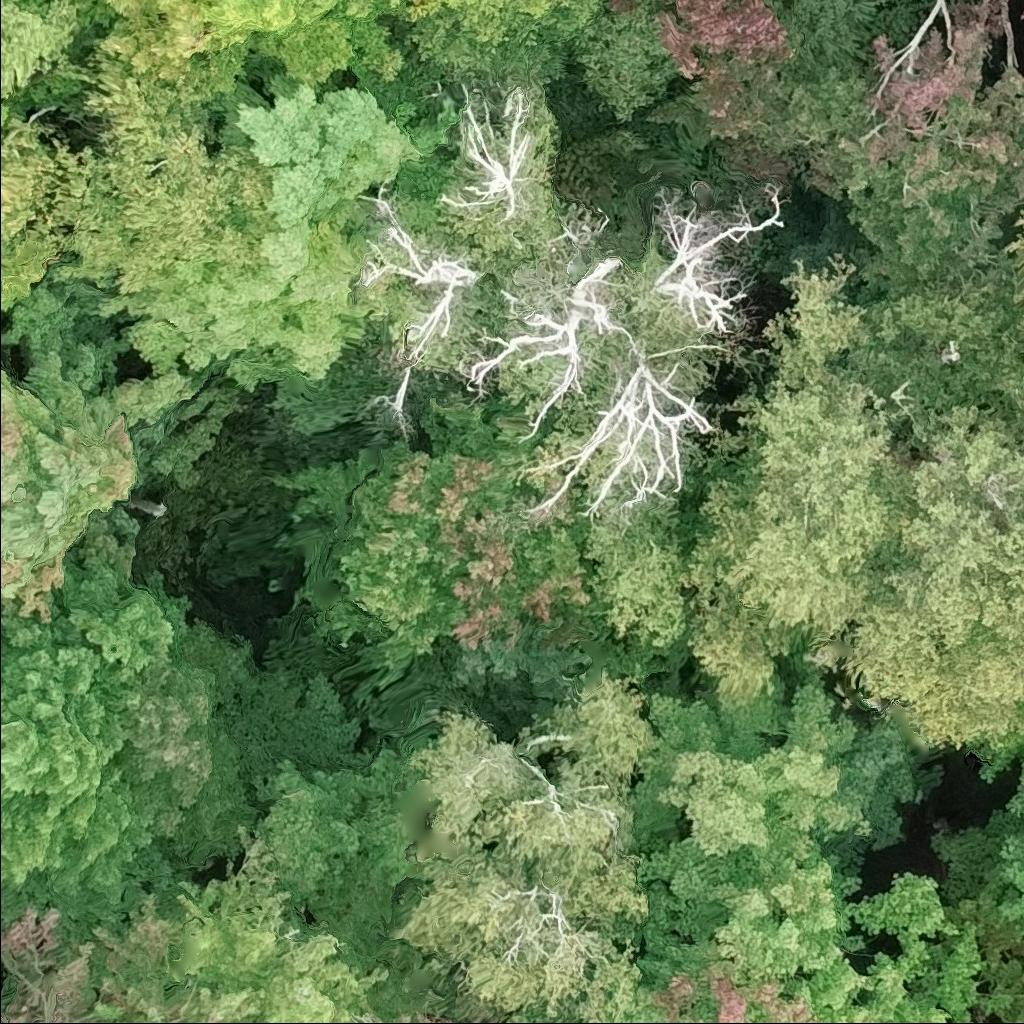crown: (677, 204, 1023, 779), (98, 73, 421, 390), (384, 667, 655, 1023), (617, 667, 919, 962), (761, 0, 1023, 293), (319, 391, 592, 667), (0, 50, 272, 294), (610, 848, 949, 1023), (517, 340, 723, 530), (0, 349, 139, 621), (462, 258, 636, 445), (357, 190, 488, 420), (652, 0, 808, 151), (834, 868, 985, 1023), (649, 180, 790, 340), (200, 0, 408, 95), (399, 0, 608, 86), (436, 76, 533, 236), (79, 0, 206, 83), (0, 0, 93, 99), (997, 776, 1023, 939), (0, 99, 14, 121), (1020, 9, 1023, 21)
